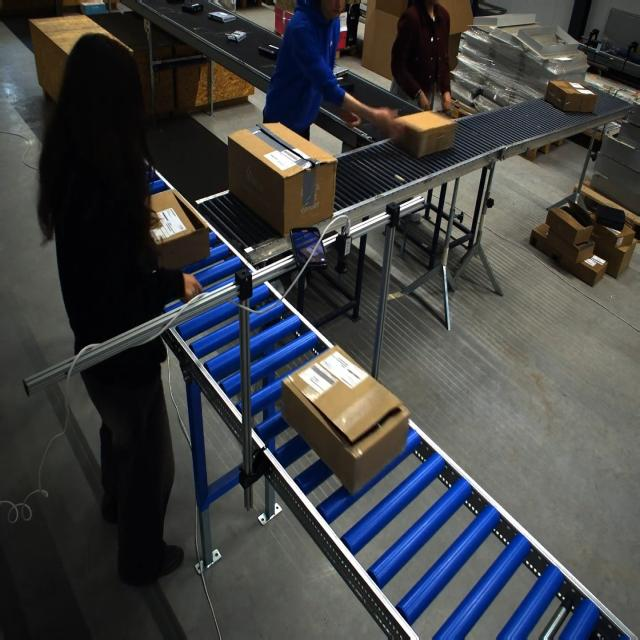box: (283, 352, 398, 491), (226, 122, 332, 237), (148, 188, 210, 270), (393, 109, 455, 158)
product: (258, 43, 280, 60), (208, 11, 236, 23), (225, 30, 247, 42), (182, 2, 204, 14), (334, 68, 349, 80)
